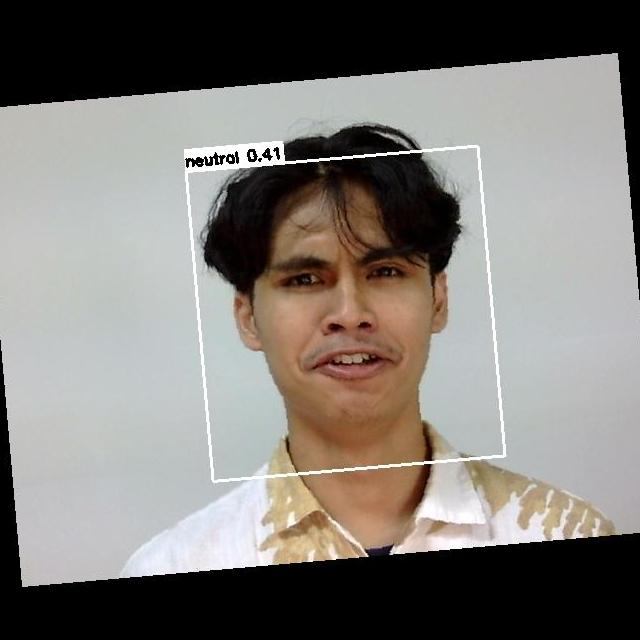Fear: (251, 226, 451, 431)
